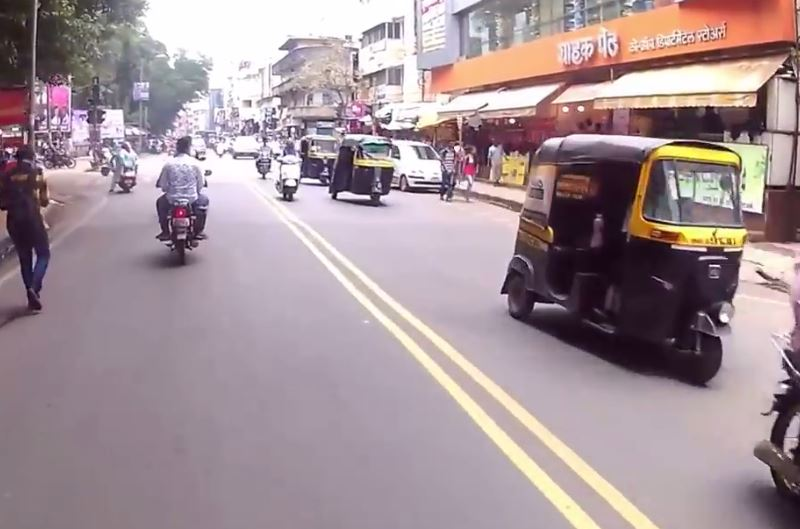autorickshaw: (496, 132, 758, 390), (331, 129, 398, 208), (295, 127, 341, 190)
car: (389, 132, 450, 201)
